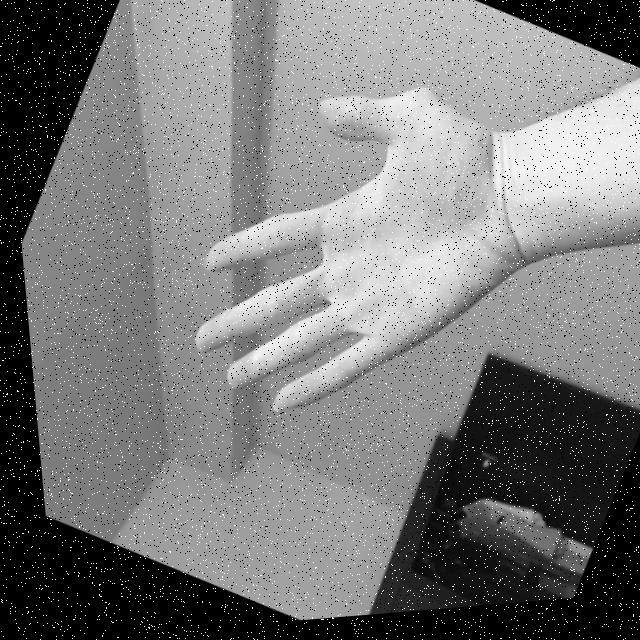no-gloves: (132, 12, 598, 502)
